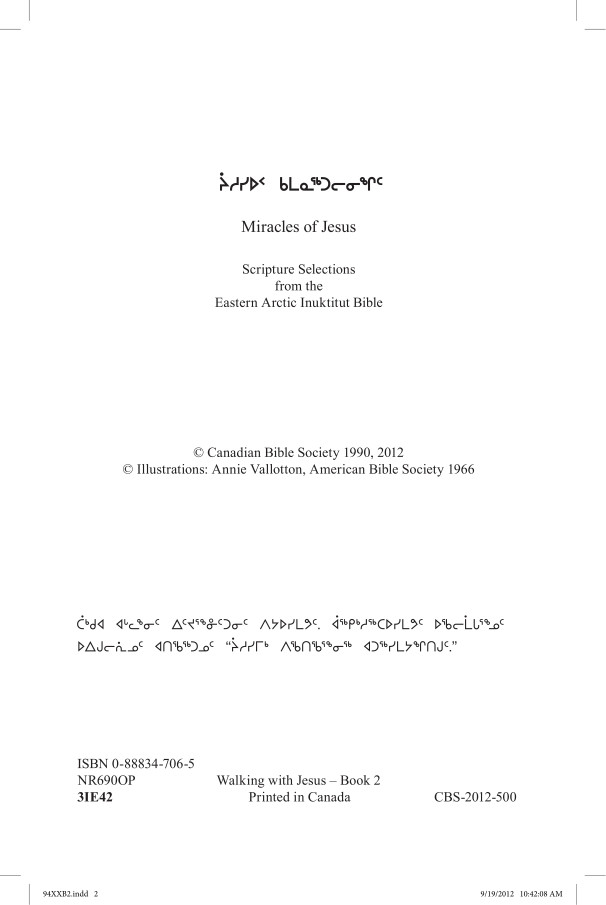inuktitut: (63, 606, 510, 662), (210, 164, 389, 199)
latin: (116, 441, 479, 478), (208, 256, 391, 314), (71, 751, 200, 807), (211, 768, 387, 807), (232, 213, 364, 237), (428, 785, 520, 807)
